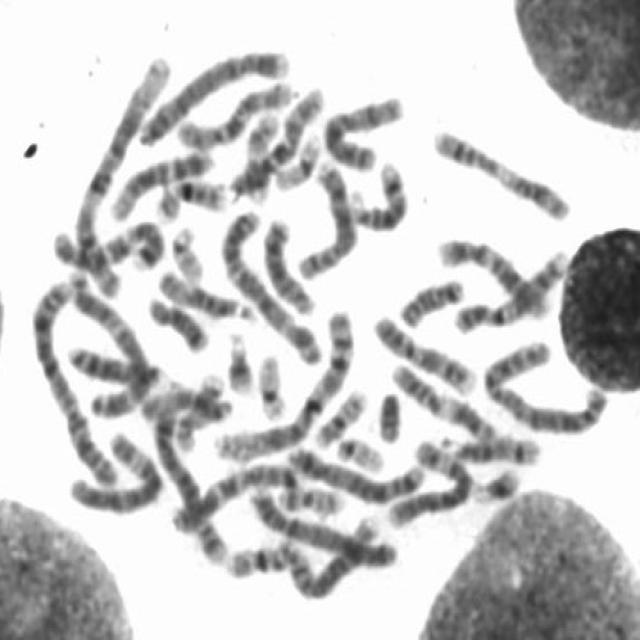A1: (67, 48, 174, 299), (209, 305, 355, 465)
A2: (27, 272, 123, 490), (479, 335, 612, 438)
A3: (216, 202, 324, 370), (66, 268, 156, 422)
B4: (132, 44, 293, 152), (244, 483, 399, 571)
B5: (152, 400, 234, 566), (281, 442, 427, 506)
C10: (231, 82, 327, 199), (175, 78, 300, 156)
C11: (428, 124, 578, 225), (388, 358, 502, 444)
C12: (434, 232, 552, 322), (105, 145, 219, 223)
C6: (64, 424, 164, 515), (384, 436, 474, 530)
C7: (166, 458, 302, 534), (47, 216, 163, 275)
C8: (285, 507, 382, 601), (295, 157, 357, 282)
C9: (449, 243, 573, 335), (369, 311, 478, 397)
D13: (258, 211, 318, 317), (61, 341, 166, 391)
D14: (344, 157, 409, 231), (435, 428, 544, 467)
D15: (150, 262, 259, 324), (133, 384, 235, 424)
E16: (222, 530, 303, 581), (152, 174, 228, 224)
E17: (169, 368, 227, 453), (241, 106, 281, 202)
E18: (141, 290, 210, 355), (394, 273, 466, 329)
F19: (272, 131, 323, 192), (251, 346, 290, 422)
F20: (309, 382, 368, 448), (272, 478, 346, 520)
G21: (468, 462, 523, 506), (222, 326, 256, 397)
G22: (332, 433, 388, 476), (167, 222, 205, 285)
X: (319, 90, 408, 174)
Y: (373, 386, 403, 444)
